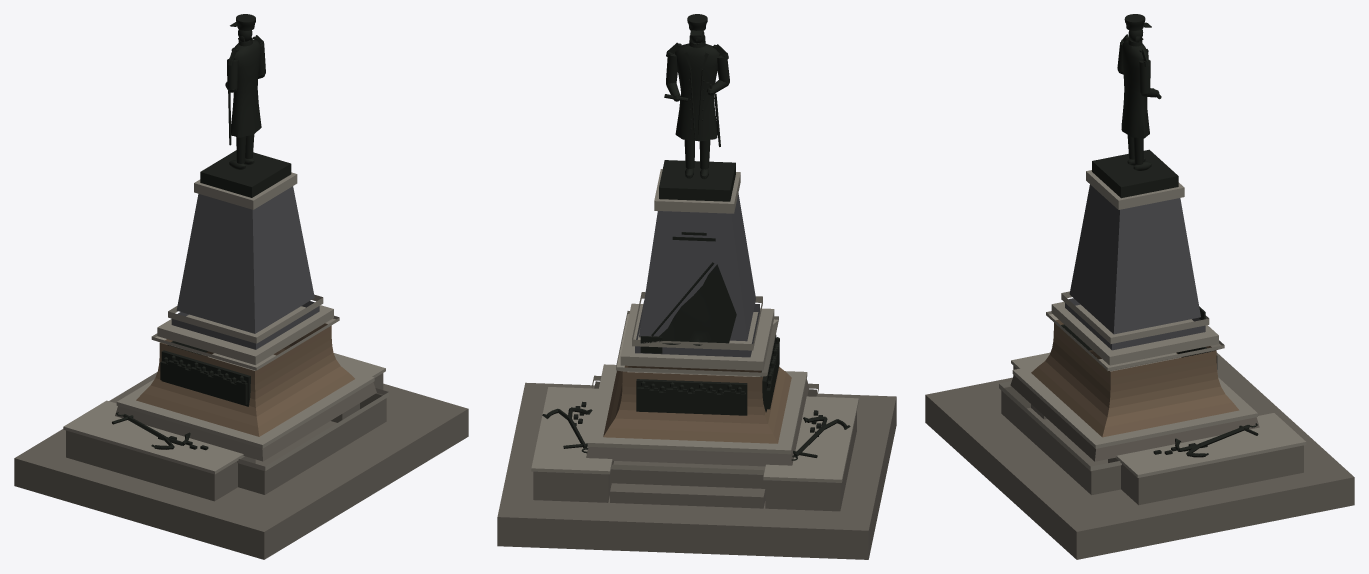
File: nahimov_monument.glb
3 views of the same model, side by side, from view 1: azimuth 30°, elevation 25°; view 2: azimuth 150°, elevation 25°; view 3: azimuth 270°, elevation 25° (orthographic). The views are drawn at different scales.
Visible parts, largest first — view 1: nahimov_monument_stone, nahimov_monument_trim, nahimov_monument_wall2, nahimov_monument_wall, nahimov_monument_wall3_s, nahimov_monument_metal_s; view 2: nahimov_monument_stone, nahimov_monument_trim, nahimov_monument_metal_s, nahimov_monument_wall2, nahimov_monument_wall, nahimov_monument_wall3_s; view 3: nahimov_monument_stone, nahimov_monument_trim, nahimov_monument_wall2, nahimov_monument_wall, nahimov_monument_wall3_s, nahimov_monument_metal_s.
Part boxes in pixels (x1,y1,x2,y2): nahimov_monument_stone: (14, 372, 468, 559); nahimov_monument_trim: (63, 172, 388, 474); nahimov_monument_wall2: (171, 186, 319, 349); nahimov_monument_wall: (136, 323, 354, 436); nahimov_monument_wall3_s: (200, 14, 291, 197); nahimov_monument_metal_s: (112, 22, 263, 450); nahimov_monument_stone: (497, 379, 896, 559); nahimov_monument_trim: (531, 169, 858, 482); nahimov_monument_metal_s: (542, 24, 850, 460); nahimov_monument_wall2: (635, 193, 759, 357); nahimov_monument_wall: (603, 365, 791, 443); nahimov_monument_wall3_s: (659, 14, 735, 201); nahimov_monument_stone: (925, 352, 1354, 559); nahimov_monument_trim: (999, 170, 1306, 477); nahimov_monument_wall2: (1065, 184, 1205, 350); nahimov_monument_wall: (1031, 319, 1239, 437); nahimov_monument_wall3_s: (1092, 14, 1178, 198); nahimov_monument_metal_s: (1061, 22, 1258, 457).
Size of the model in its own units: 13.19 by 14.32 by 12.46.
